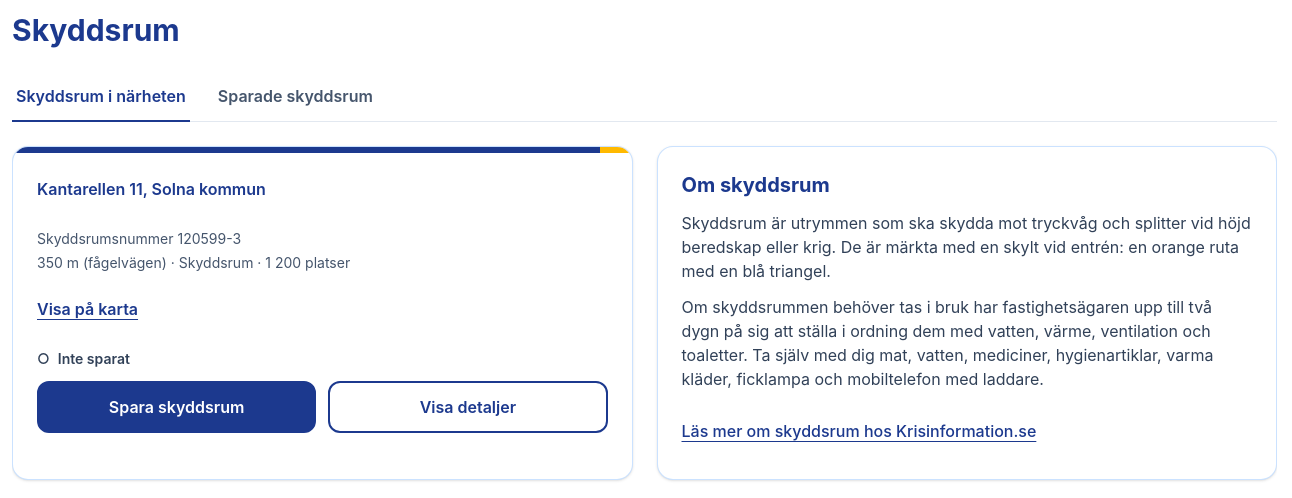
Test: ShelterPage tabs › shows an empty-state message on the saved tab when nothing is bookmarked
Click the tab "Sparade skyddsrum" at coordinates (295, 97), box [214,72,377,122]
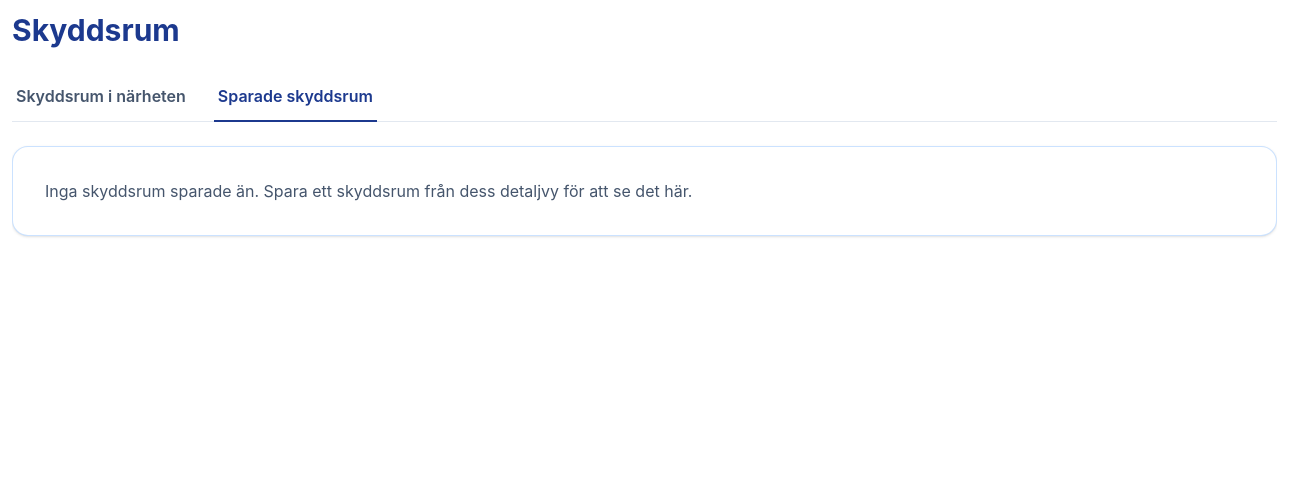
Expected: the text "Inga skyddsrum sparade än" is shown, [45,181,692,201]
